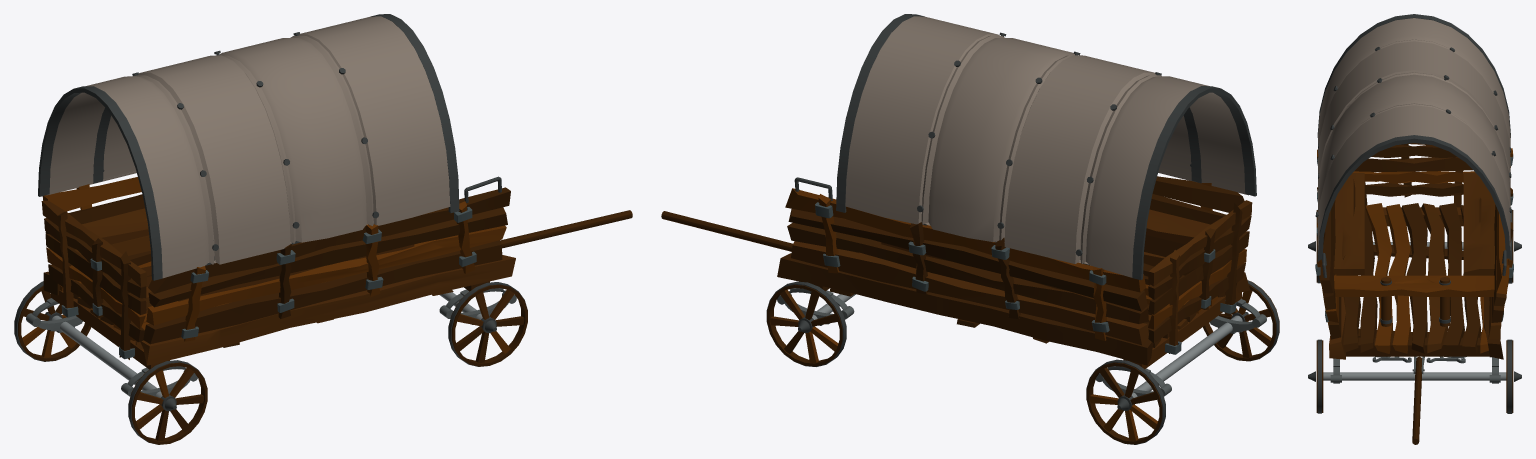
Rendered from TELEGA2.fbx.
The picture shows the model from 3 angles, left to right: view 1: azimuth 30°, elevation 25°; view 2: azimuth 150°, elevation 25°; view 3: azimuth 270°, elevation 25°; orthographic projection. The views are drawn at different scales.
Visible parts, largest first — view 1: Cylinder, Cube.006, Cube.050, Cube.049, Cube.048, Cube.047, Cylinder.009, Cylinder.005, Cube.001, Cube.061, Cube.004, Cube.063 (+15 smaller); view 2: Cylinder, Cube.007, Cube.053, Cube.052, Cube.051, Cube.001, Cylinder.009, Cylinder.005, Cube.047, Cube.061, Cube.005, Cube.063 (+18 smaller); view 3: Cylinder, Cube.003, Cube.004, Cube.005, Cylinder.005, Cube.043, Cube.044, Cube.041, Cube.042, Cube.045, Cube.063, Cylinder.011 (+27 smaller).
Boxes of the visible parts, <box> form: Cylinder: <box>46,16,450,278</box>; Cube.006: <box>140,255,515,365</box>; Cube.050: <box>143,240,502,344</box>; Cube.049: <box>146,225,506,325</box>; Cube.048: <box>148,207,507,307</box>; Cube.047: <box>148,187,510,293</box>; Cylinder.009: <box>38,86,162,280</box>; Cylinder.005: <box>371,14,459,213</box>; Cube.001: <box>42,177,141,211</box>; Cube.061: <box>41,200,147,286</box>; Cube.004: <box>82,208,148,244</box>; Cube.063: <box>45,233,146,314</box>; Cylinder: <box>845,16,1248,277</box>; Cube.007: <box>777,253,1153,365</box>; Cube.053: <box>791,241,1148,345</box>; Cube.052: <box>787,223,1148,323</box>; Cube.051: <box>788,209,1147,311</box>; Cube.001: <box>785,188,1145,292</box>; Cylinder.009: <box>1132,86,1256,279</box>; Cylinder.005: <box>836,14,924,212</box>; Cube.047: <box>1152,176,1244,212</box>; Cube.061: <box>1148,200,1252,286</box>; Cube.005: <box>1146,209,1210,244</box>; Cube.063: <box>1148,231,1249,314</box>; Cylinder: <box>1318,18,1510,250</box>; Cube.003: <box>1334,275,1494,296</box>; Cube.004: <box>1463,173,1495,275</box>; Cube.005: <box>1334,173,1364,275</box>; Cylinder.005: <box>1318,135,1510,261</box>; Cube.043: <box>1401,203,1427,353</box>; Cube.044: <box>1386,204,1410,353</box>; Cube.041: <box>1439,203,1464,353</box>; Cube.042: <box>1421,203,1448,353</box>; Cube.045: <box>1365,203,1392,353</box>; Cube.063: <box>1354,157,1472,171</box>; Cylinder.011: <box>1323,372,1506,380</box>.
Size of the model in its own units: 311 by 166 by 123.
